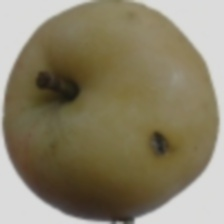apple: (21, 44, 196, 195)
